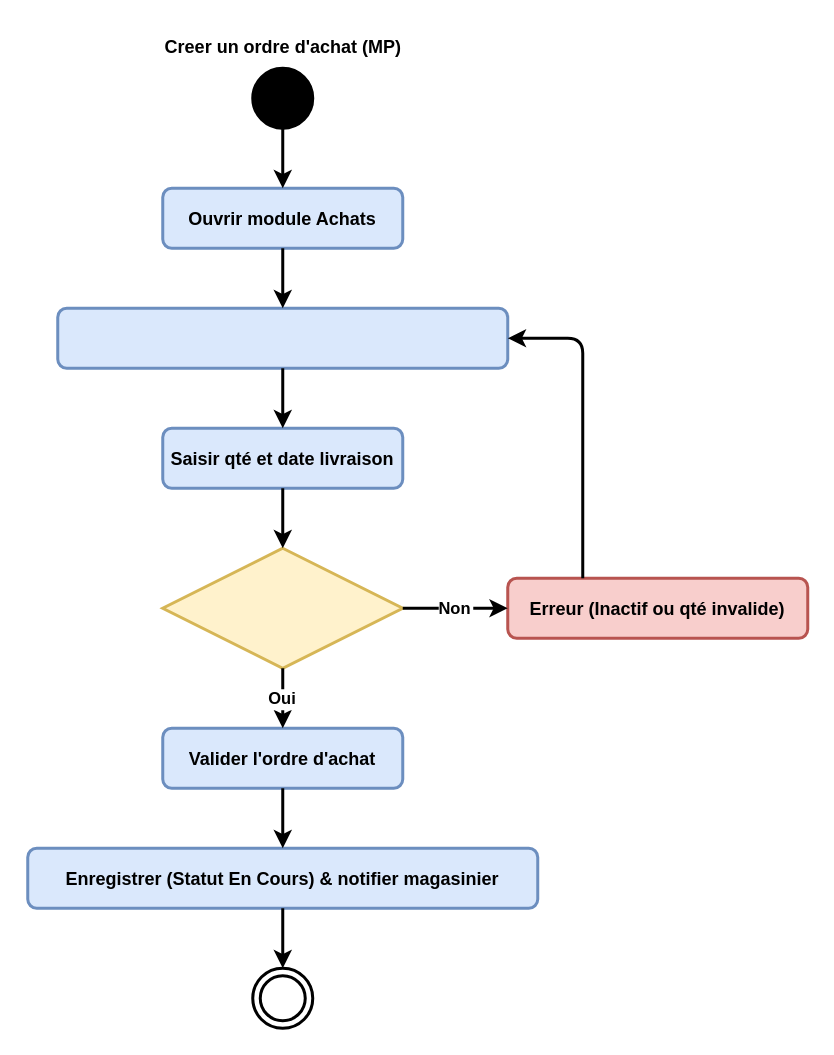
Image size: 834x1055. Some labels were removed from this diagram. Each missing label, with the centre of its shape:
Fourn. actif ou Qté > 0 ?: point (282, 607)
Sélectionner Matière Première et Fournisseur: point (282, 337)
